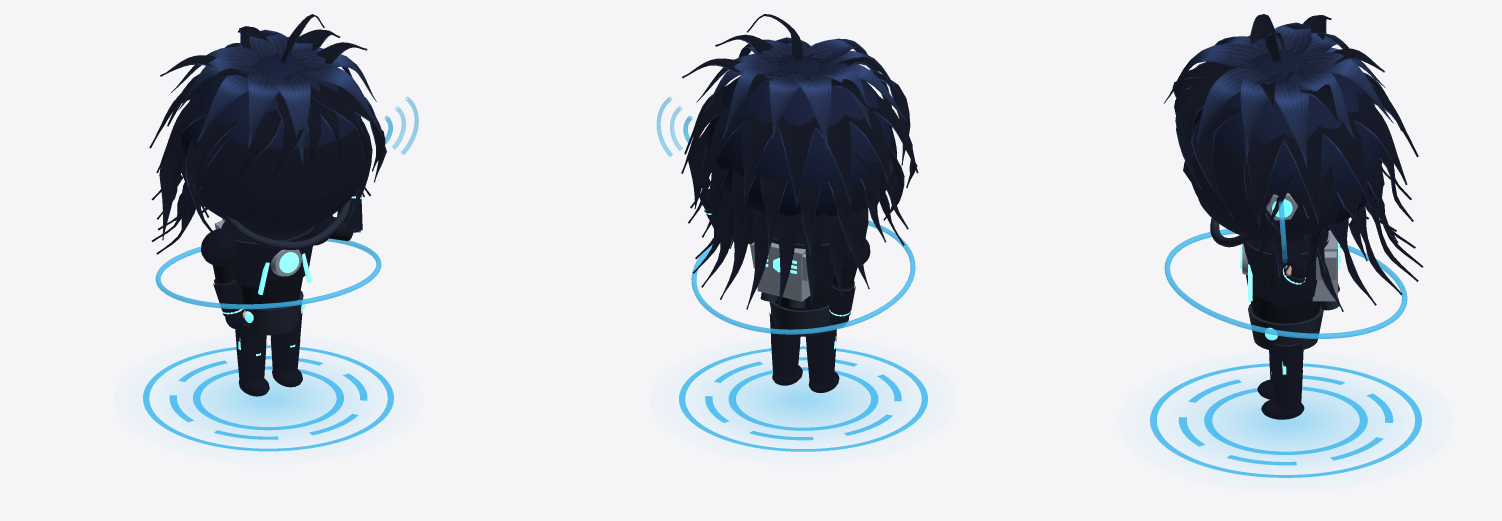
File: kai.glb
3 views of the same model, side by side, from view 1: azimuth 30°, elevation 25°; view 2: azimuth 150°, elevation 25°; view 3: azimuth 270°, elevation 25° (orthographic). The views are drawn at different scales.
Visible parts, largest first — view 1: HairGroup, HoloBase, HeadGroup, Torso, RightArmPivot, RightLegPivot, LeftLegPivot, BodyPivot, LeftArmPivot; view 2: HairGroup, HoloBase, Backpack, RightLegPivot, RightArmPivot, Torso, LeftLegPivot, HeadGroup, BodyPivot; view 3: HairGroup, HoloBase, HeadGroup, Torso, LeftLegPivot, LeftArmPivot, BodyPivot, Backpack.
Part boxes in pixels (left/top/right/bottom): HairGroup: left=149, top=26, right=386, bottom=254; HoloBase: left=143, top=238, right=393, bottom=451; HeadGroup: left=181, top=97, right=418, bottom=249; Torso: left=221, top=220, right=316, bottom=308; RightArmPivot: left=201, top=228, right=245, bottom=328; RightLegPivot: left=235, top=322, right=269, bottom=396; LeftLegPivot: left=270, top=310, right=302, bottom=387; BodyPivot: left=244, top=290, right=305, bottom=335; LeftArmPivot: left=315, top=189, right=362, bottom=245; HairGroup: left=681, top=34, right=918, bottom=309; HoloBase: left=679, top=220, right=927, bottom=451; Backpack: left=750, top=242, right=810, bottom=308; RightLegPivot: left=805, top=322, right=839, bottom=392; RightArmPivot: left=829, top=230, right=870, bottom=326; Torso: left=772, top=228, right=849, bottom=310; LeftLegPivot: left=769, top=310, right=802, bottom=385; HeadGroup: left=656, top=97, right=896, bottom=231; BodyPivot: left=769, top=301, right=830, bottom=336; HairGroup: left=1164, top=14, right=1423, bottom=311; HoloBase: left=1150, top=229, right=1421, bottom=477; HeadGroup: left=1183, top=125, right=1337, bottom=262; Torso: left=1240, top=231, right=1329, bottom=323; LeftLegPivot: left=1261, top=342, right=1304, bottom=419; LeftArmPivot: left=1265, top=248, right=1308, bottom=308; BodyPivot: left=1248, top=304, right=1323, bottom=350; Backpack: left=1312, top=230, right=1340, bottom=310.
Bounding box in the file's own units: 1.75 × 1.95 × 1.75.
16 materials, 3 textured.
